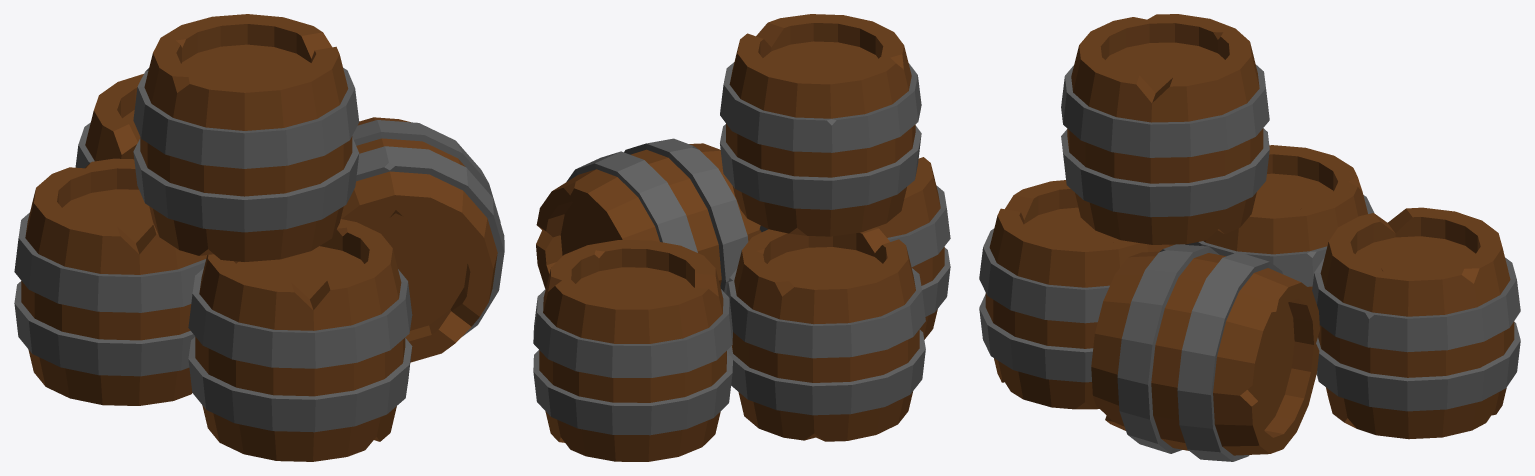
The model's file is lowpoly barrel.fbx.
3 renders of one model, left to right at view 1: azimuth 30°, elevation 25°; view 2: azimuth 150°, elevation 25°; view 3: azimuth 270°, elevation 25°, orthographic. The views are drawn at different scales.
Parts seen in each view (by area): view 1: Cylinder.001, Cylinder.003, Cylinder, Cylinder.002, Cylinder.004; view 2: Cylinder.004, Cylinder.001, Cylinder, Cylinder.002, Cylinder.003; view 3: Cylinder.001, Cylinder.004, Cylinder.002, Cylinder.003, Cylinder.
Boxes of the visible parts, bbox=[...] form: Cylinder.001: bbox=[133, 14, 359, 261]; Cylinder.003: bbox=[188, 219, 412, 461]; Cylinder: bbox=[14, 158, 206, 405]; Cylinder.002: bbox=[341, 117, 504, 362]; Cylinder.004: bbox=[75, 74, 143, 168]; Cylinder.004: bbox=[533, 240, 732, 461]; Cylinder.001: bbox=[720, 14, 921, 236]; Cylinder: bbox=[726, 227, 925, 441]; Cylinder.002: bbox=[536, 138, 761, 293]; Cylinder.003: bbox=[759, 157, 950, 339]; Cylinder.001: bbox=[1061, 14, 1269, 244]; Cylinder.004: bbox=[1312, 207, 1520, 439]; Cylinder.002: bbox=[1091, 244, 1319, 461]; Cylinder.003: bbox=[979, 180, 1185, 409]; Cylinder: bbox=[1185, 145, 1374, 290].
Bounding box in the file's own units: 533 × 408 × 621.
